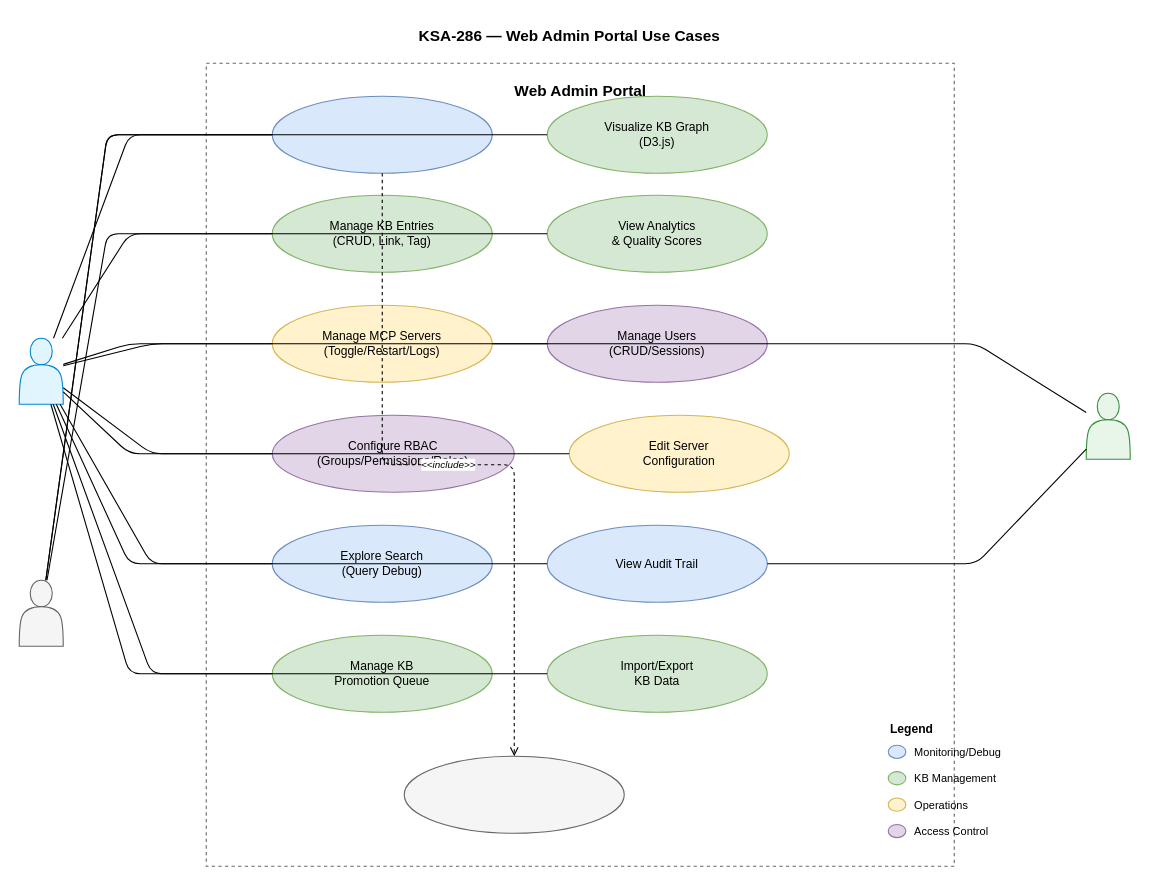
Some shapes in this 1150 by 886 pixel diagram are drawn without their labels. The shapes that lost their labels are listed below. From the top down, each one's centre as x and y in pixels, then its label:
point 381,134: View Dashboard & Monitor Health
point 40,370: System Admin
point 1107,425: Backend Server
point 40,612: Viewer
point 513,794: Authenticate (JWT Login)
